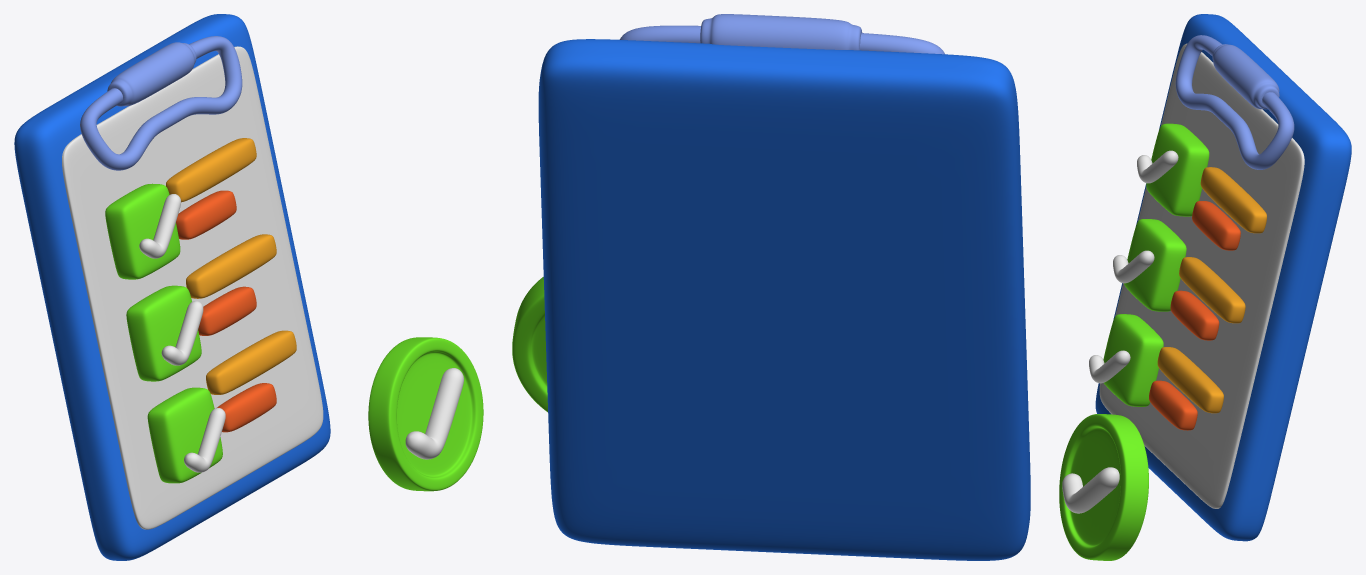
The model's file is checklist-3d-animated-icon-798312095901.glb.
3 renders of one model, left to right at view 1: azimuth 30°, elevation 25°; view 2: azimuth 150°, elevation 25°; view 3: azimuth 270°, elevation 25°, orthographic. The views are drawn at different scales.
Parts seen in each view (by area): view 1: paper, board, coin, Clip arm, box 2, box 3, box 1, data 5, data 3, data 1, checklist, data 2 (+5 smaller); view 2: board, Clip arm, coin; view 3: paper, board, coin, Clip arm, box 1, box 3, box 2, data 1, data 5, data 3, checklist, data 6 (+5 smaller).
Boxes of the visible parts, x1,y1,x2,y2 form: paper: (62,46,323,529); board: (14,14,330,560); coin: (368,337,483,491); Clip arm: (80,36,242,170); box 2: (126,285,201,381); box 3: (147,387,222,483); box 1: (105,183,180,279); data 5: (206,330,296,394); data 3: (186,234,276,298); data 1: (166,138,256,202); checklist: (405,368,463,459); data 2: (176,190,236,239); board: (538,39,1030,560); Clip arm: (620,14,944,54); coin: (512,277,547,412); paper: (1099,43,1304,508); board: (1095,14,1351,541); coin: (1059,414,1148,560); Clip arm: (1175,35,1294,169); box 1: (1146,123,1209,216); box 3: (1103,314,1163,406); box 2: (1124,219,1186,311); data 1: (1200,167,1266,233); data 5: (1157,347,1223,413); data 3: (1179,257,1245,323); checklist: (1062,467,1119,513); data 6: (1149,380,1197,430).
Size of the model in its own units: 2.91 by 2.86 by 1.85.
